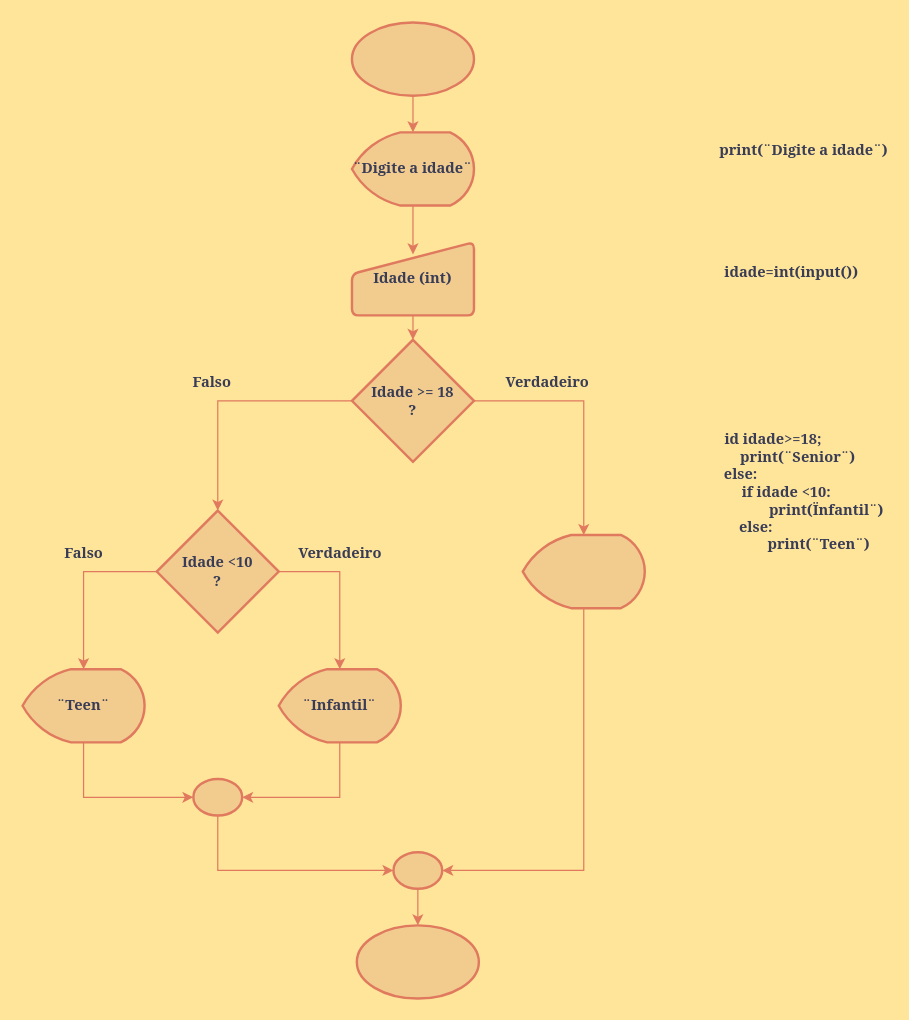
This 909x1020 diagram has some shape labels left out. The shapes that lost their labels are listed below. From the top down, each one's centre as x and y in pixels, then its label:
At point 412,58: "Inicio".
At point 583,571: "¨Senior¨".
At point 417,961: "Fim".
